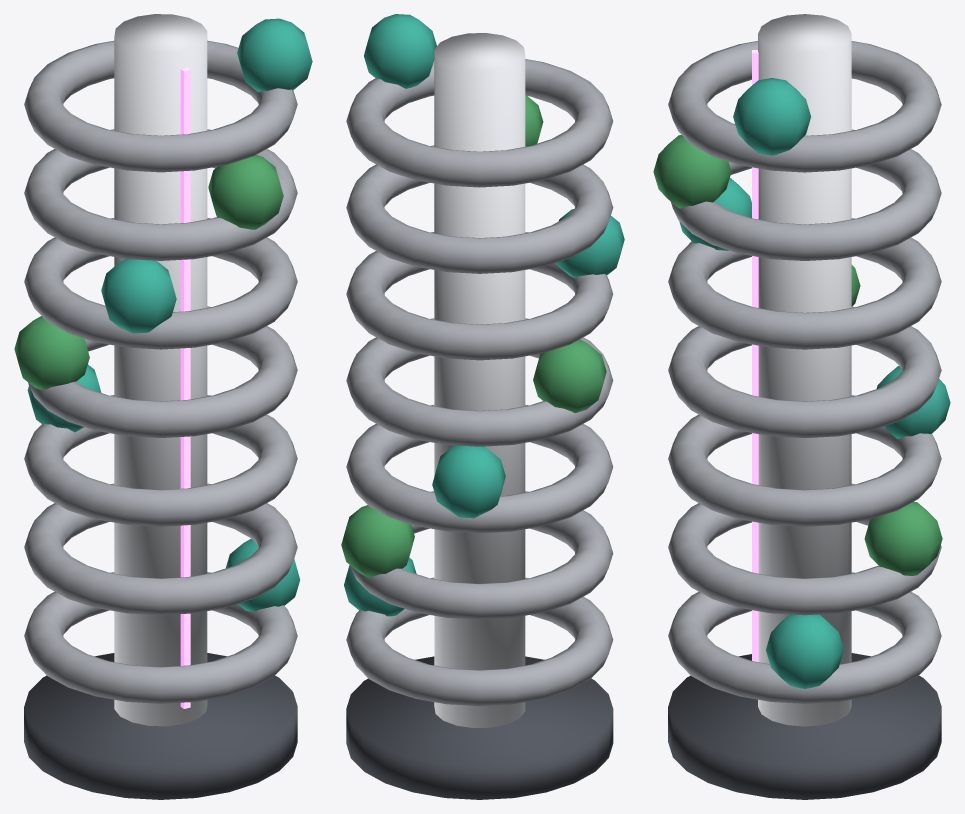
The model's file is hydroponic_bed_tower_ring.glb.
3 renders of one model, left to right at view 1: azimuth 30°, elevation 25°; view 2: azimuth 150°, elevation 25°; view 3: azimuth 270°, elevation 25°, orthographic. The views are drawn at different scales.
Visible parts, largest first — view 1: GD_hydroponic_bed_tower_ring__m2, GD_hydroponic_bed_tower_ring__m1, GD_hydroponic_bed_tower_ring__m0, GD_hydroponic_bed_tower_ring__m3, GD_hydroponic_bed_tower_ring__m4, GD_hydroponic_bed_tower_ring__m5; view 2: GD_hydroponic_bed_tower_ring__m2, GD_hydroponic_bed_tower_ring__m1, GD_hydroponic_bed_tower_ring__m0, GD_hydroponic_bed_tower_ring__m3, GD_hydroponic_bed_tower_ring__m4; view 3: GD_hydroponic_bed_tower_ring__m2, GD_hydroponic_bed_tower_ring__m1, GD_hydroponic_bed_tower_ring__m0, GD_hydroponic_bed_tower_ring__m3, GD_hydroponic_bed_tower_ring__m4, GD_hydroponic_bed_tower_ring__m5.
Part boxes in pixels (<box>): GD_hydroponic_bed_tower_ring__m2: <box>24,40,297,703</box>; GD_hydroponic_bed_tower_ring__m1: <box>114,14,207,726</box>; GD_hydroponic_bed_tower_ring__m0: <box>24,653,297,799</box>; GD_hydroponic_bed_tower_ring__m3: <box>27,18,312,611</box>; GD_hydroponic_bed_tower_ring__m4: <box>14,155,283,389</box>; GD_hydroponic_bed_tower_ring__m5: <box>180,67,190,708</box>; GD_hydroponic_bed_tower_ring__m2: <box>346,59,613,705</box>; GD_hydroponic_bed_tower_ring__m1: <box>434,33,525,727</box>; GD_hydroponic_bed_tower_ring__m0: <box>346,656,613,799</box>; GD_hydroponic_bed_tower_ring__m3: <box>344,14,624,616</box>; GD_hydroponic_bed_tower_ring__m4: <box>341,95,606,577</box>; GD_hydroponic_bed_tower_ring__m2: <box>668,41,941,703</box>; GD_hydroponic_bed_tower_ring__m1: <box>758,14,851,726</box>; GD_hydroponic_bed_tower_ring__m0: <box>668,653,941,799</box>; GD_hydroponic_bed_tower_ring__m3: <box>679,78,950,688</box>; GD_hydroponic_bed_tower_ring__m4: <box>653,135,942,575</box>; GD_hydroponic_bed_tower_ring__m5: <box>752,50,758,661</box>.
Size of the model in its own units: 0.797 by 2 by 0.7605.
